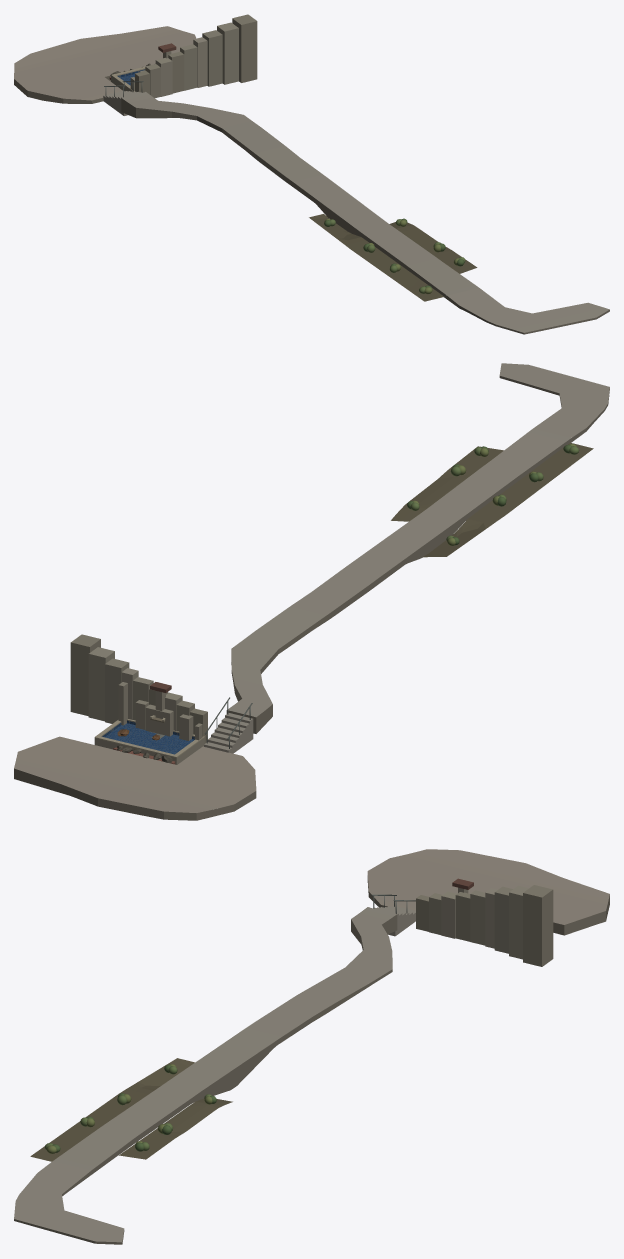
File: site.glb
The picture shows the model from 3 angles, top to bottom: view 1: azimuth 30°, elevation 25°; view 2: azimuth 150°, elevation 25°; view 3: azimuth 330°, elevation 25°; orthographic projection. The views are drawn at different scales.
Parts seen in each view (by area): view 1: cascade-courtyard-access, cascade-charley-concrete, cascade-courtyard-edges-and-rails, cascade-volcanology-walk-verge, cascade-volcanology-walk-shrubs; view 2: cascade-courtyard-access, cascade-charley-concrete, cascade-courtyard-edges-and-rails, cascade-volcanology-walk-verge, cascade-charley-blue-tile, cascade-volcanology-walk-shrubs; view 3: cascade-courtyard-access, cascade-charley-concrete, cascade-volcanology-walk-verge, cascade-courtyard-edges-and-rails, cascade-volcanology-walk-shrubs.
Boxes of the visible parts, x1,y1,x2,y2 form: cascade-courtyard-access: (14, 26, 609, 332); cascade-charley-concrete: (111, 14, 257, 98); cascade-courtyard-edges-and-rails: (14, 76, 609, 334); cascade-volcanology-walk-verge: (309, 214, 477, 301); cascade-volcanology-walk-shrubs: (324, 218, 465, 294); cascade-courtyard-access: (14, 363, 609, 812); cascade-charley-concrete: (70, 634, 207, 764); cascade-courtyard-edges-and-rails: (14, 376, 609, 820); cascade-volcanology-walk-verge: (391, 442, 593, 557); cascade-charley-blue-tile: (102, 720, 194, 754); cascade-volcanology-walk-shrubs: (407, 443, 579, 545); cascade-courtyard-access: (14, 849, 609, 1242); cascade-charley-concrete: (416, 878, 553, 966); cascade-volcanology-walk-verge: (30, 1058, 232, 1161); cascade-courtyard-edges-and-rails: (14, 875, 609, 1244); cascade-volcanology-walk-shrubs: (44, 1064, 216, 1153).
Size of the model in its own units: 15.32 by 4.94 by 61.65.
